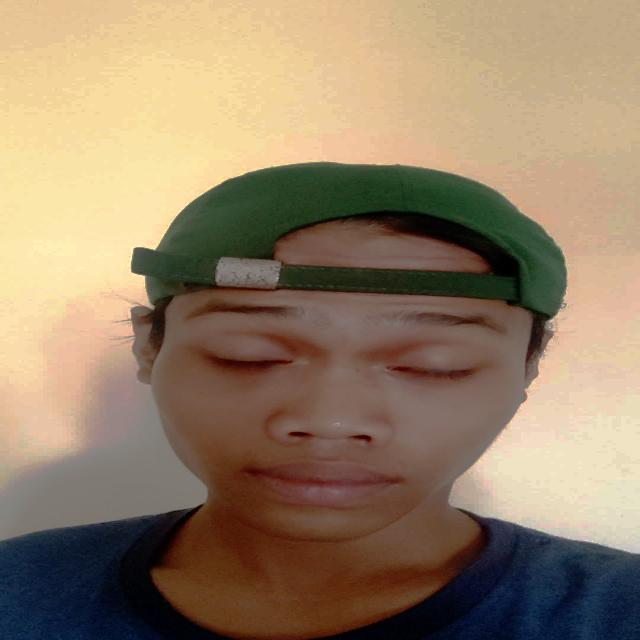TOPI: (105, 146, 585, 318)
